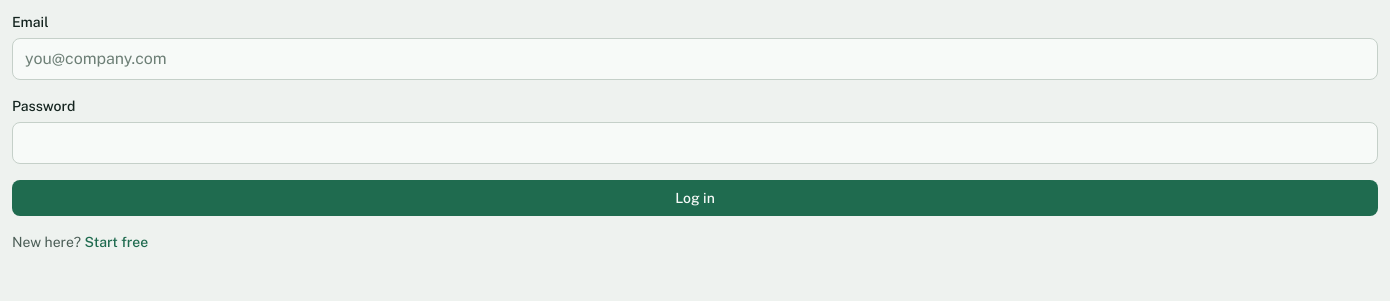
LoginForm › shows the action's error message after a failed sign-in
Type "user@example.com" into the field labelled "Email".
click(695, 59); type("user@example.com")  # box [12, 38, 1378, 80]
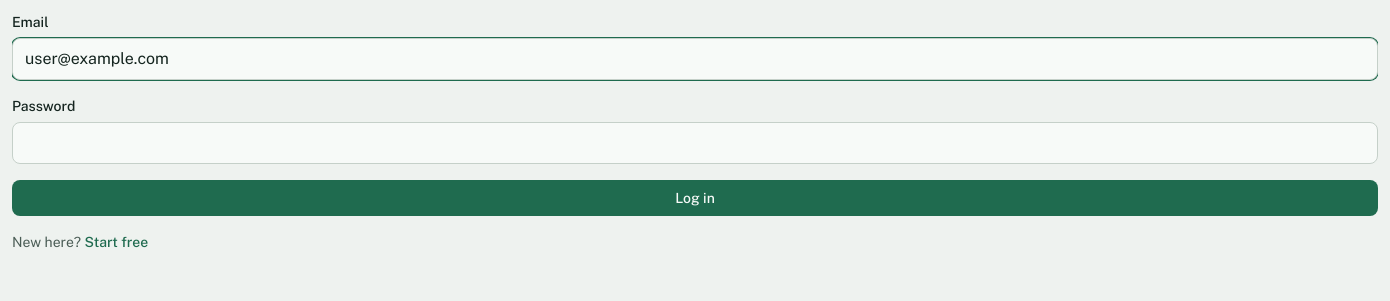
Type "wrong-password-1" into the password field labelled "Password".
click(695, 143); type("wrong-password-1")  # box [12, 122, 1378, 164]
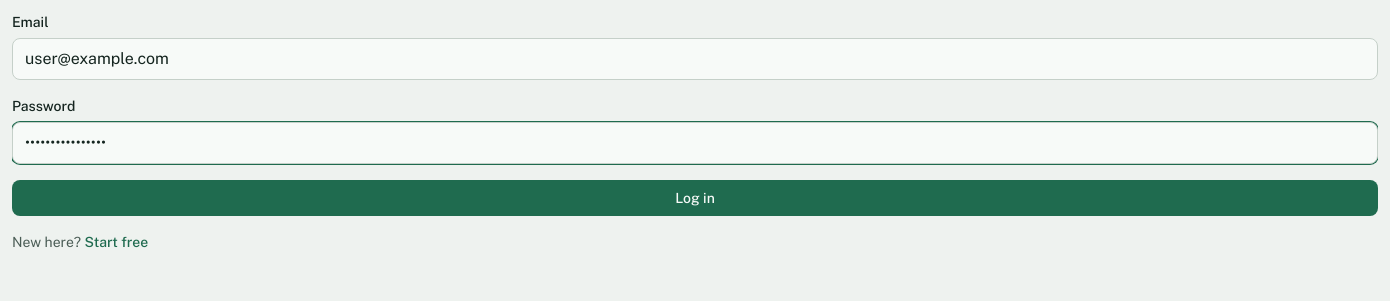
Click the button "Log in".
click(695, 198)  # box [12, 180, 1378, 216]
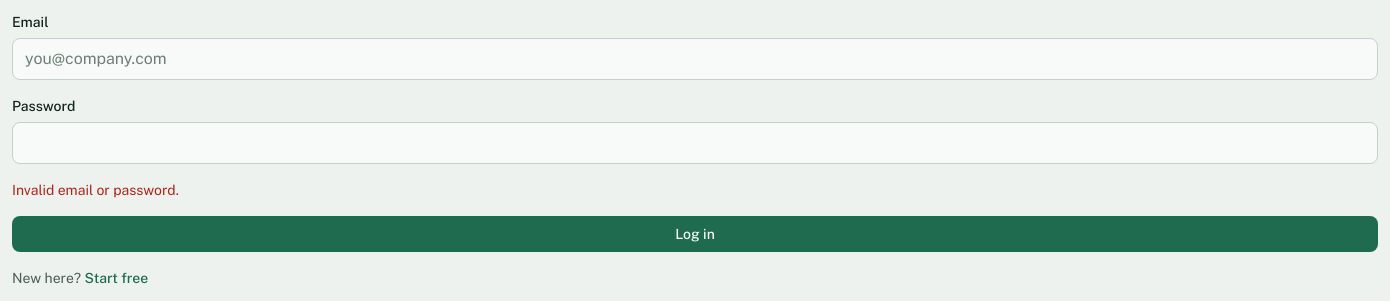
Now the message reads "Invalid email or password.", box [12, 182, 179, 198]
